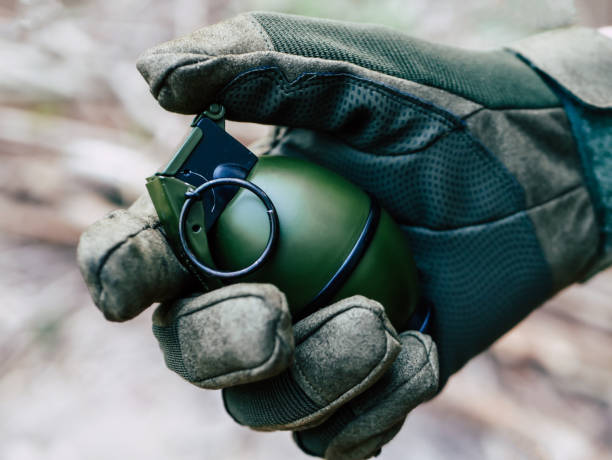e1: (148, 105, 438, 349)
